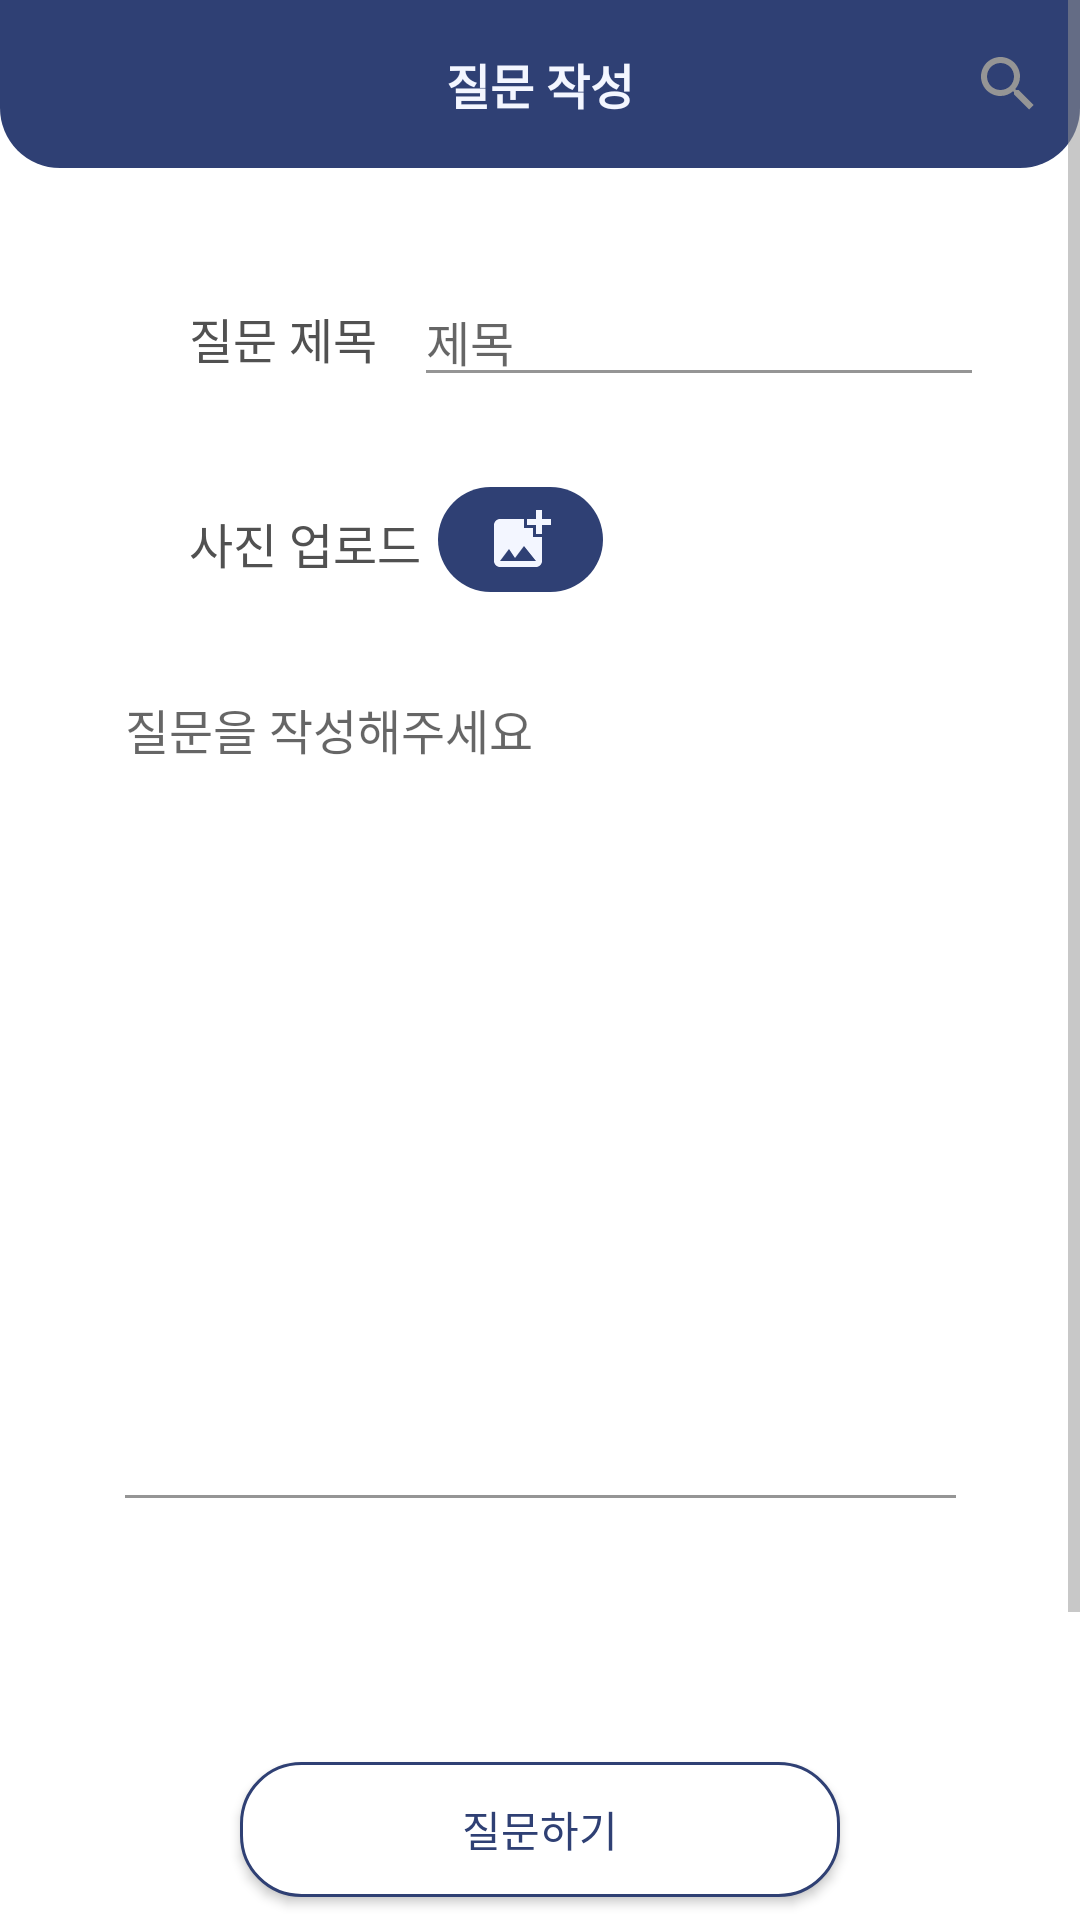

Icon bounding boxes for this 1080*1920 phone screenshot, format (x1, y1, x2, y2):
add photo alternate: (438, 487, 603, 592)
